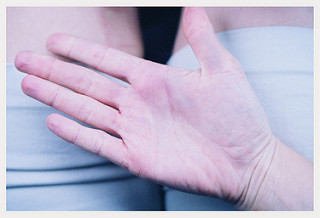palm: (126, 71, 251, 189)
